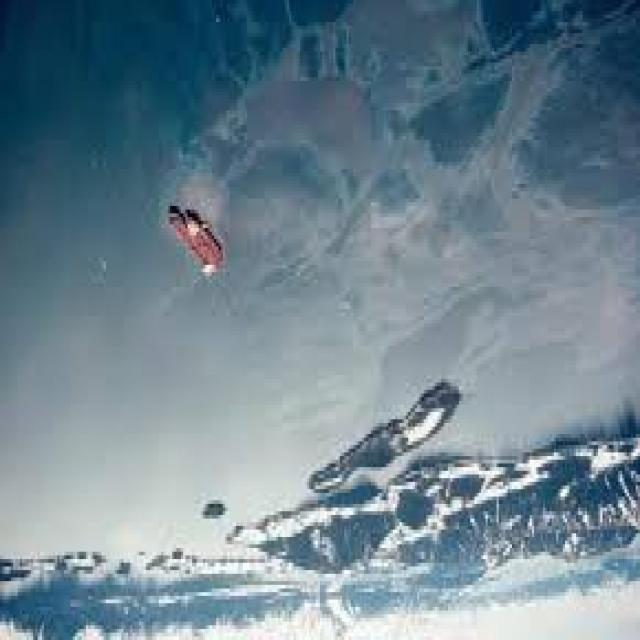sheen: (249, 20, 355, 287), (356, 0, 472, 110)
